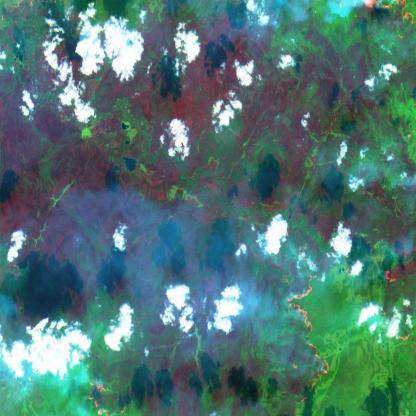fire: (0, 336, 127, 415), (281, 241, 332, 416), (381, 265, 416, 355), (351, 0, 416, 42)
